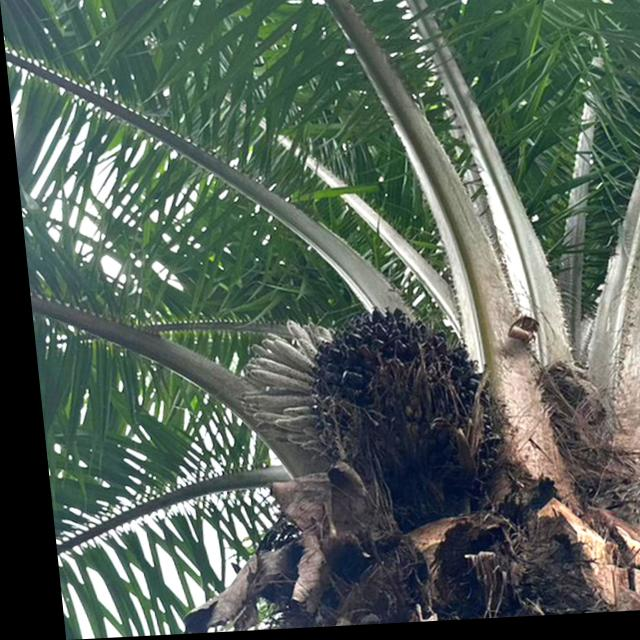unripe: (293, 303, 503, 527)
